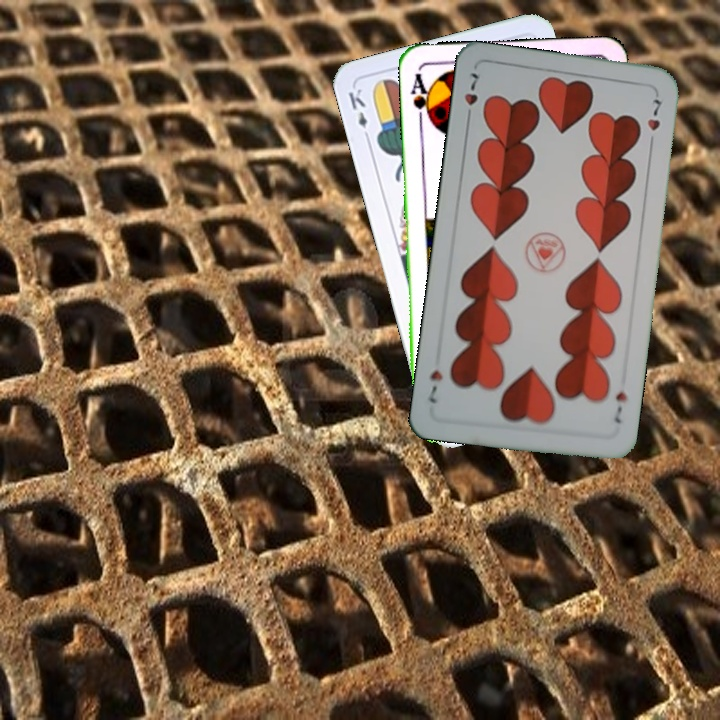EK: (344, 84, 373, 144)
H7: (460, 69, 481, 125), (610, 388, 629, 426)
SA: (407, 69, 435, 127)
